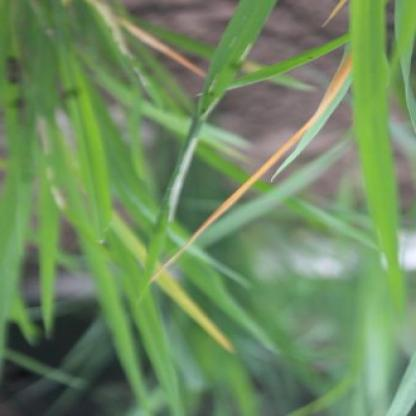Tungro: (75, 204, 240, 361)
